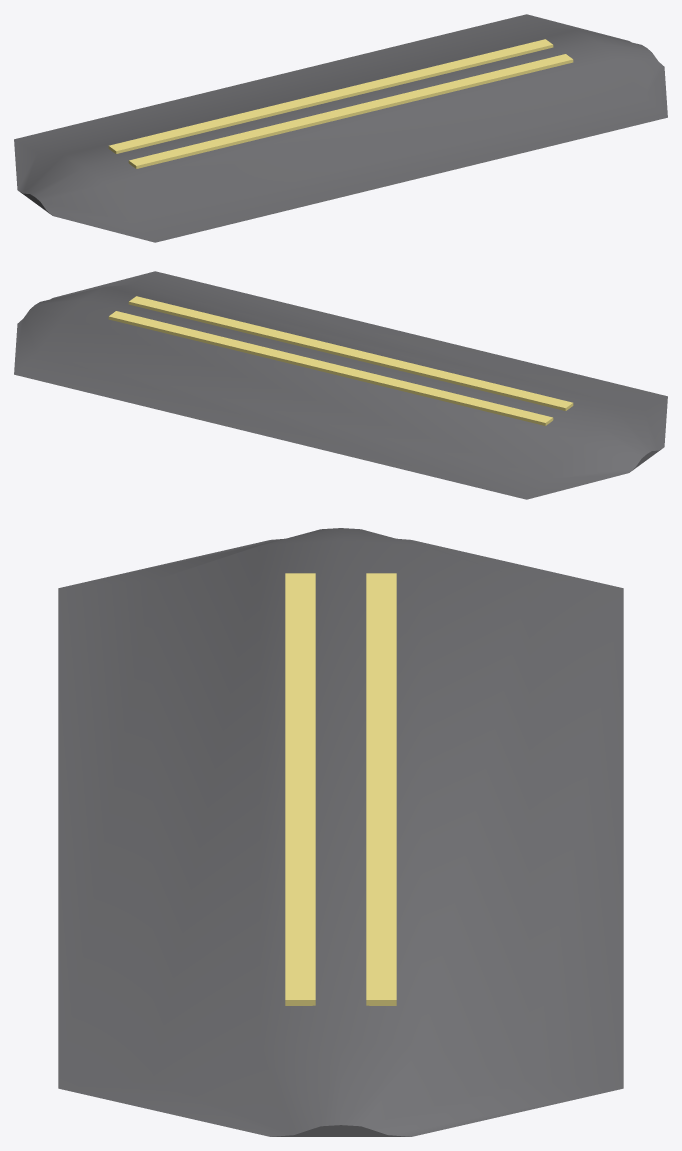
File: SpeedCushion_Asphalt.fbx
The picture shows the model from 3 angles, top to bottom: view 1: azimuth 30°, elevation 25°; view 2: azimuth 150°, elevation 25°; view 3: azimuth 270°, elevation 25°; orthographic projection. The views are drawn at different scales.
Parts seen in each view (by area): view 1: LOD0; view 2: LOD0; view 3: LOD0.
Part boxes in pixels (bbox=[...]): LOD0: bbox=[14, 14, 667, 242]; LOD0: bbox=[14, 271, 667, 499]; LOD0: bbox=[58, 528, 623, 1136].
Size of what is drawn, in the model's own units: 210 by 8.5 by 84.
